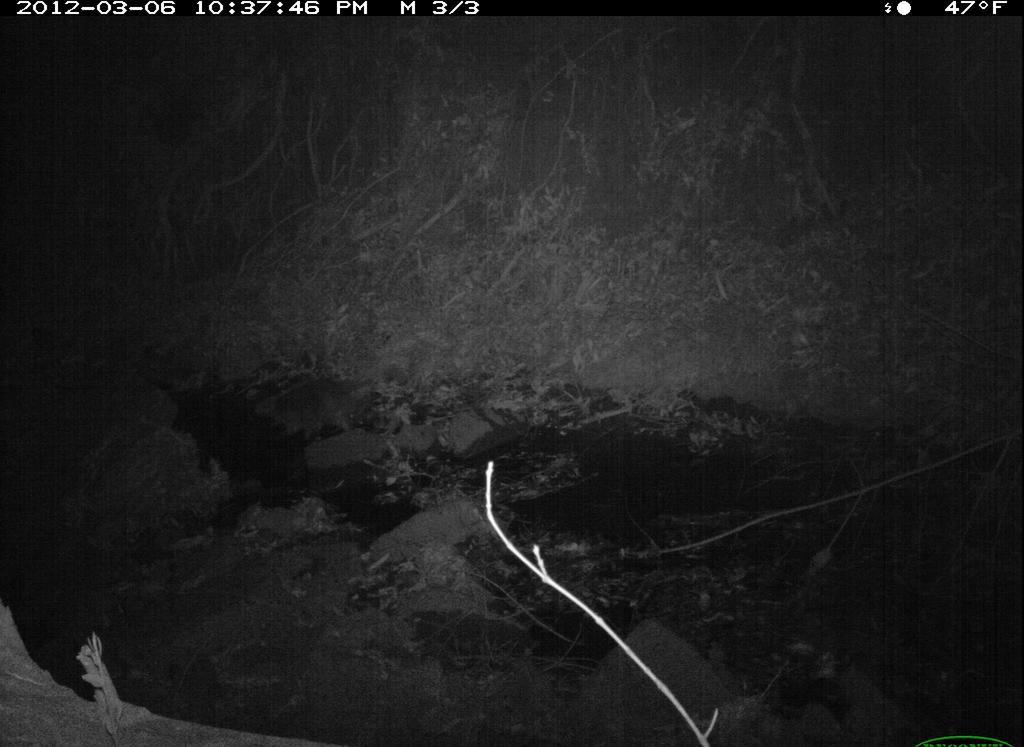raccoon: (245, 369, 395, 447)
